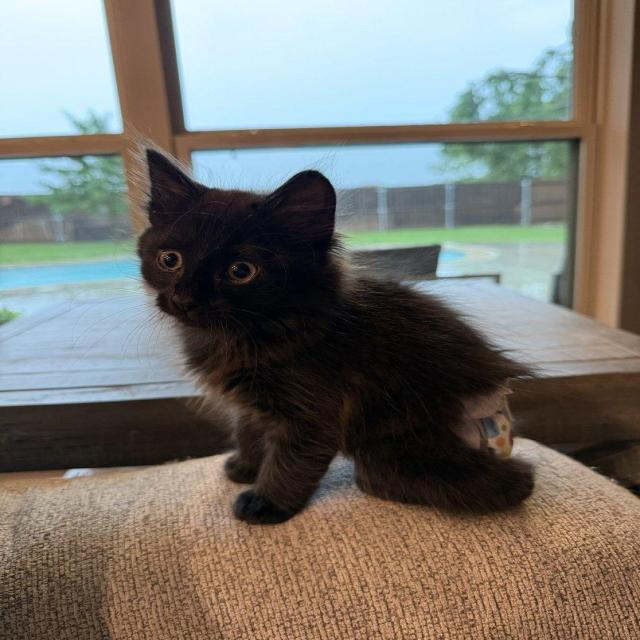manx_cat: (117, 139, 366, 361)
